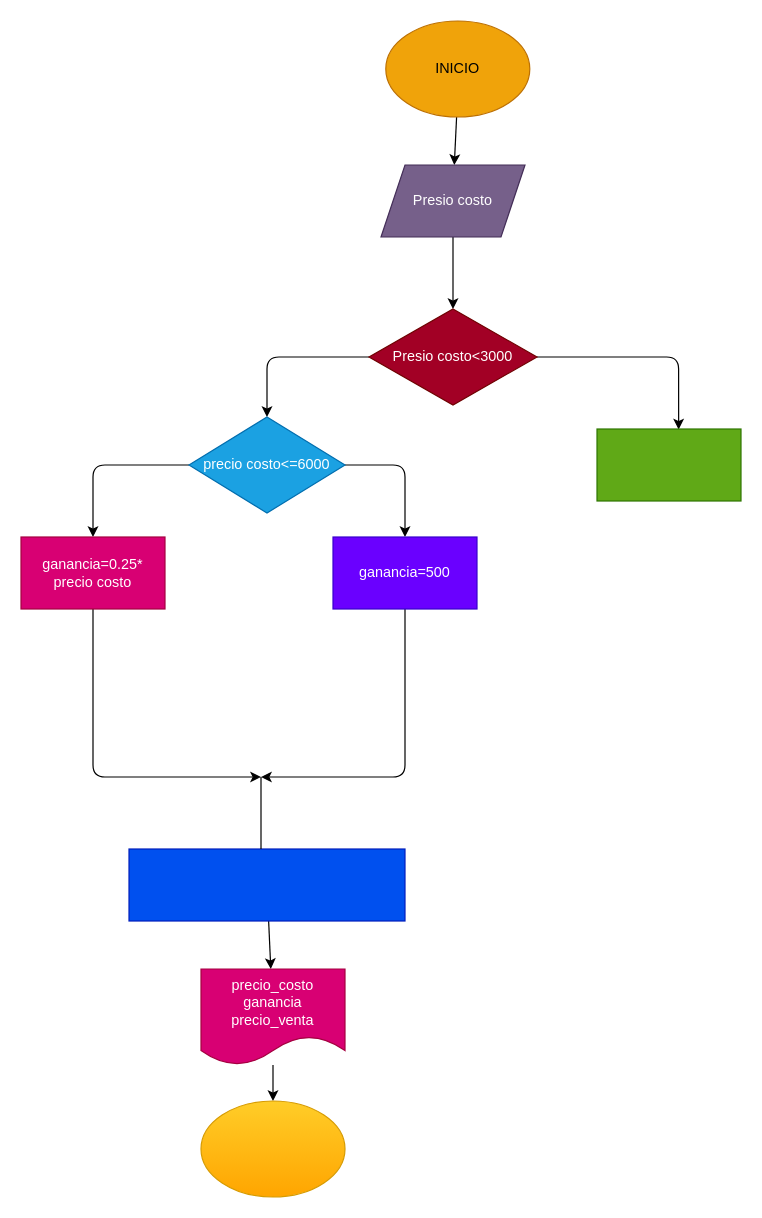
Some shapes in this 762 by 1218 pixel diagram are drawn without their labels. The centre of each missing label's shape, as x and y in pixels:
"FIN" goes at [272,1148].
"ganancia=0.15 * precio costo" goes at [668,464].
"precio_venta=precio_costo+ganancia" goes at [266,884].
